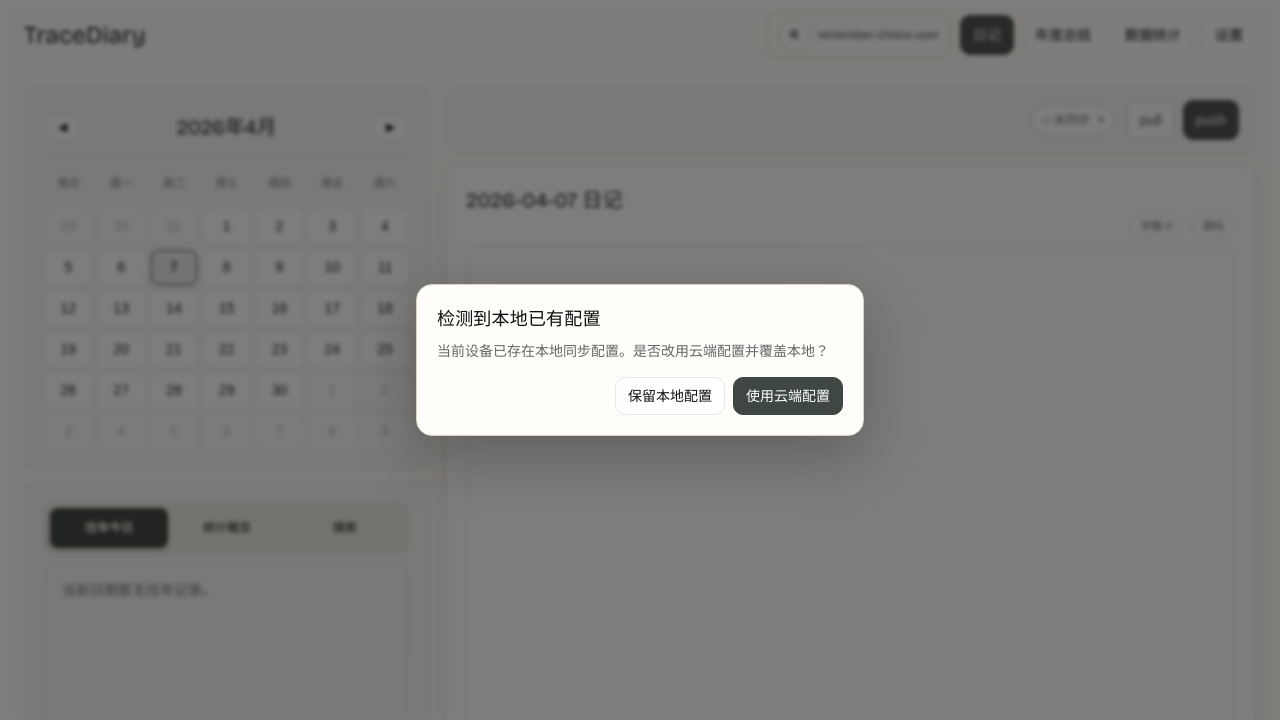
Test: App 首屏弹窗过渡态 › 选择保留本地后，重新打开页面且云端版本未变化时不应再次出现覆盖确认
Step 1. Click the button with test id "cloud-config-keep-local-btn" → (670, 396), box [615,377,725,415]
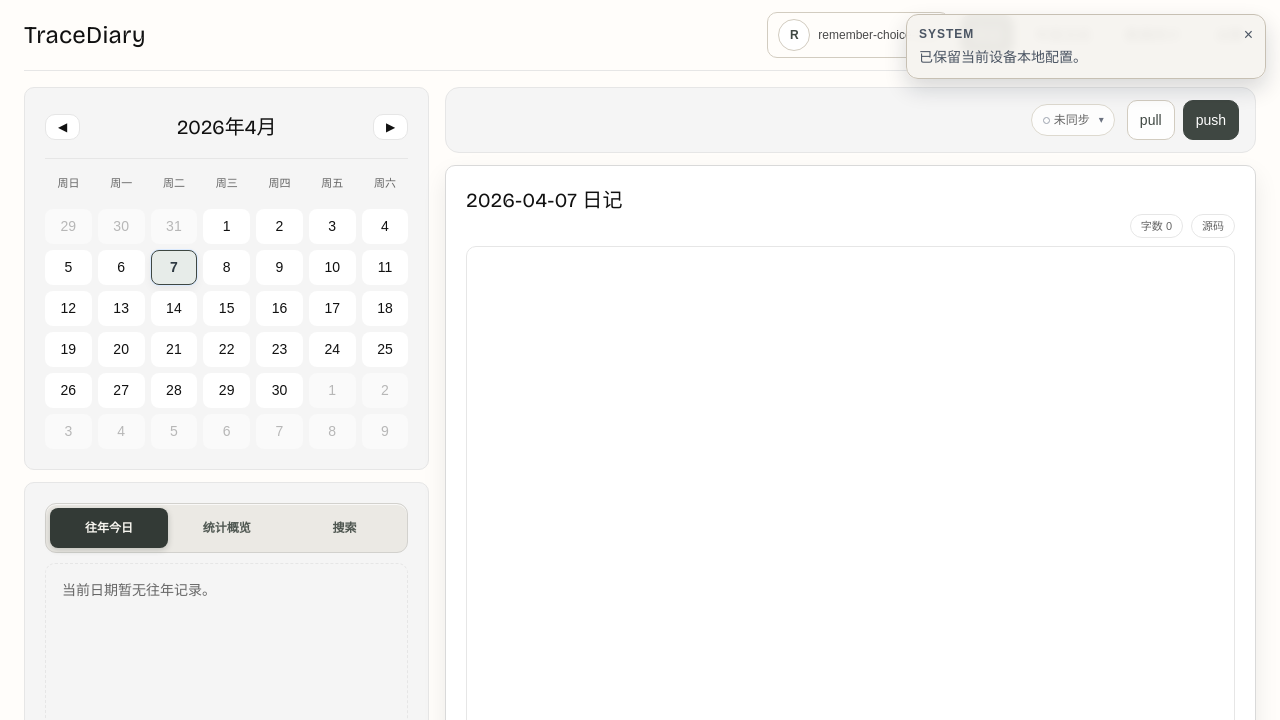
Expected: the element with test id "cloud-config-overwrite-modal" is gone
